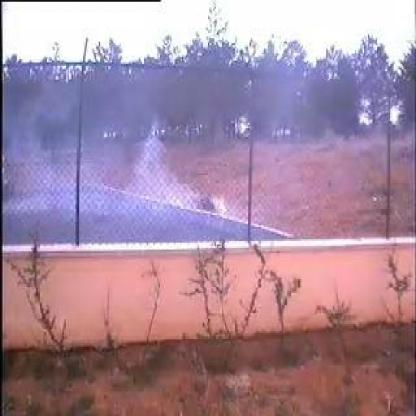-: (79, 70, 256, 242)
